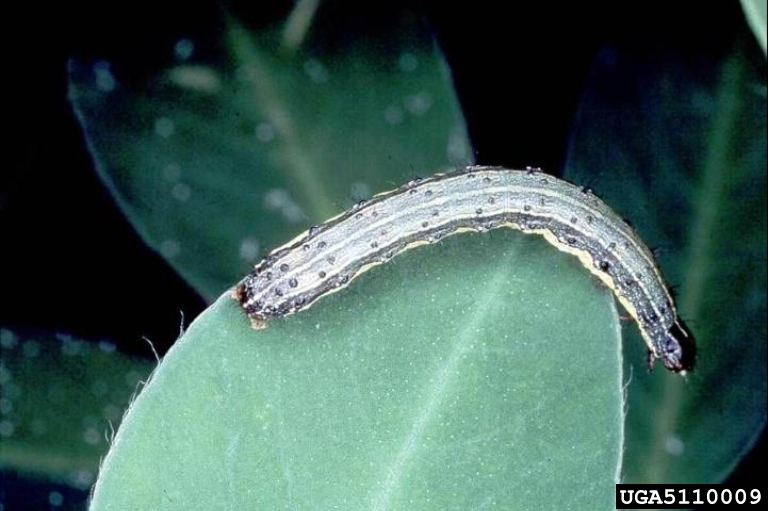Armyworm: (234, 158, 702, 384)
